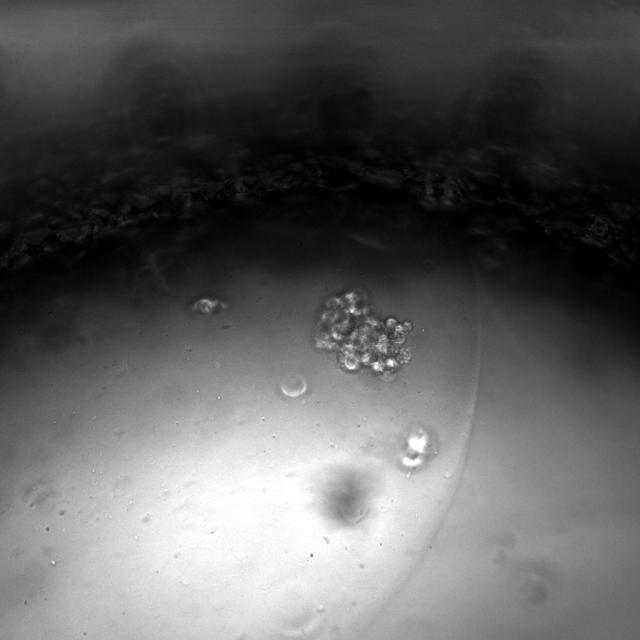organoid: (316, 290, 412, 377), (401, 428, 436, 474), (191, 298, 226, 314)
